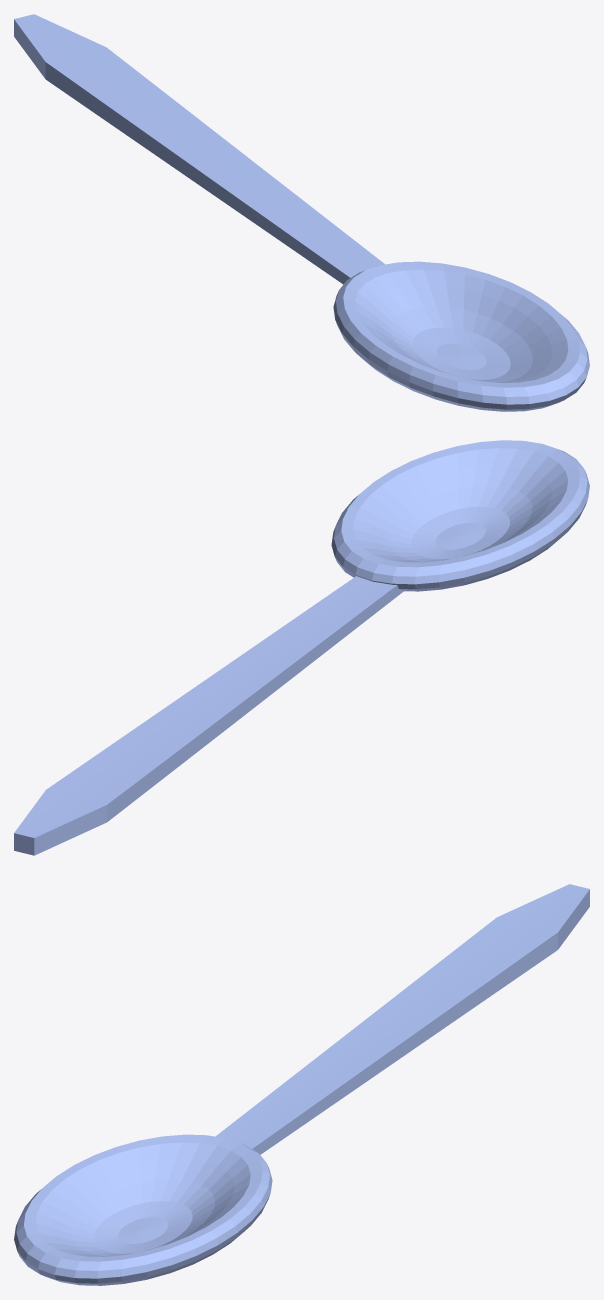
File: SpoonV1.fbx
3 renders of one model, top to bottom at view 1: azimuth 30°, elevation 25°; view 2: azimuth 150°, elevation 25°; view 3: azimuth 330°, elevation 25°, orthographic.
Visible parts, largest first — view 1: Sphere; view 2: Sphere; view 3: Sphere.
Boxes of the visible parts, <box> form: Sphere: <box>14,14,589,411</box>; Sphere: <box>14,440,589,855</box>; Sphere: <box>14,884,589,1285</box>.
Size of the model in its own units: 245 by 50.53 by 11.49.
